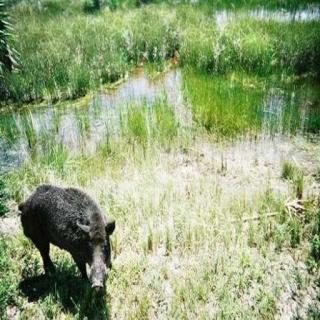Pig: (3, 159, 149, 318)
